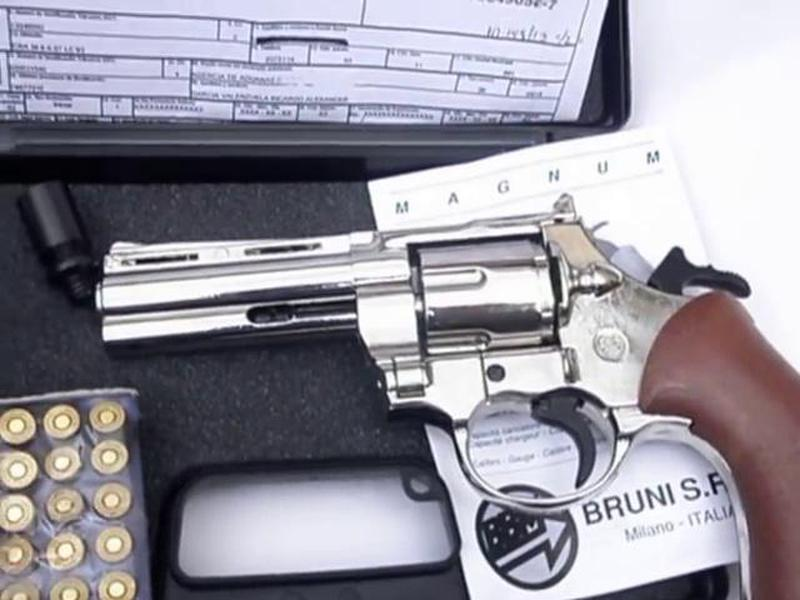Revolver: (95, 204, 800, 507)
